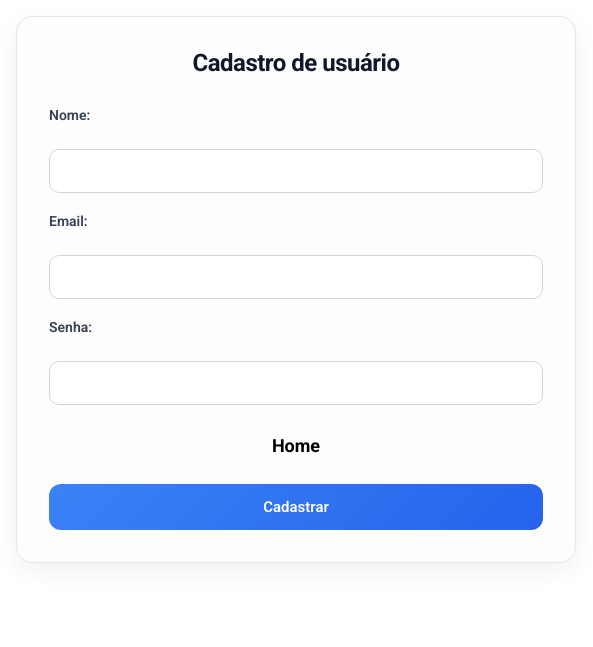
Test: Componente CardUsuario › Simula o envio do formulário com dados válidos
This screenshot has width=593, height=647.
Type "João Silva" into the field labelled "Nome:" at (296, 171), box [49,149,543,193]
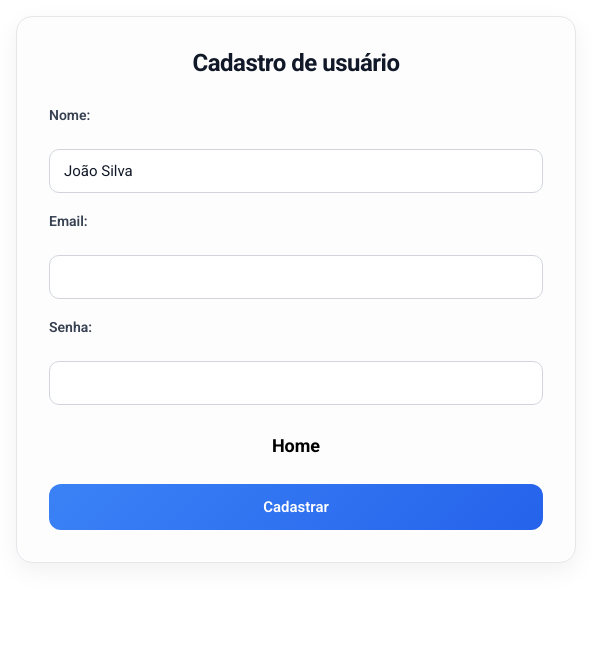
Type "joao@example.com" into the field labelled "Email:" at (296, 277), box [49,255,543,299]
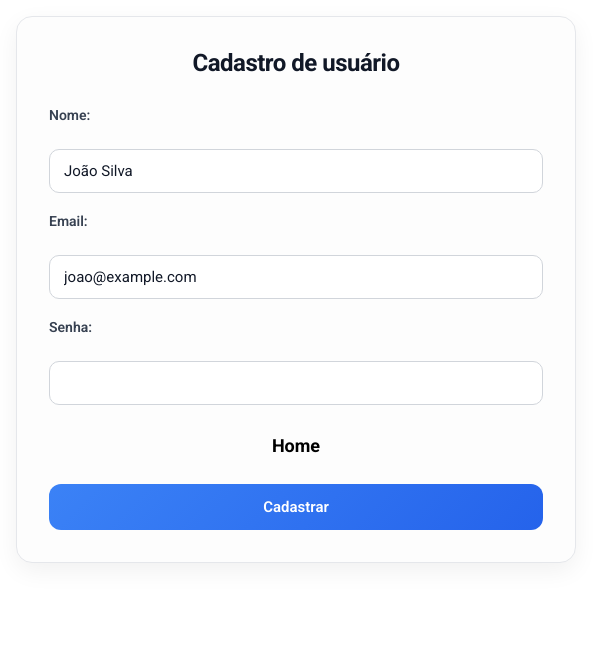
Type "123456" into the password field labelled "Senha:" at (296, 383), box [49,361,543,405]
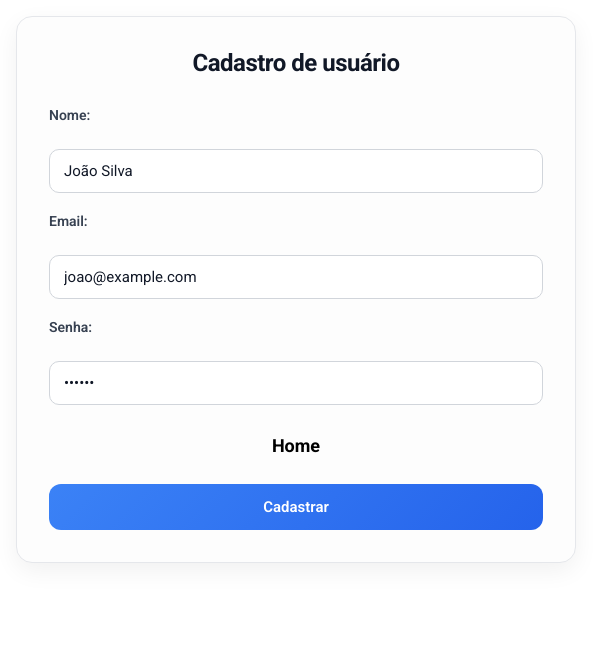
Click the button "Cadastrar" at (296, 507), box [49,484,543,530]
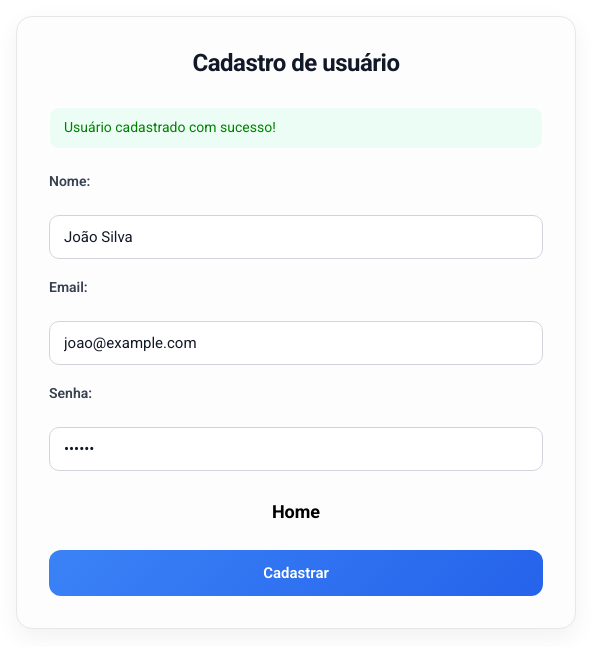
expect the message reads "Usuário cadastrado com sucesso!": met, box [64,119,276,135]
